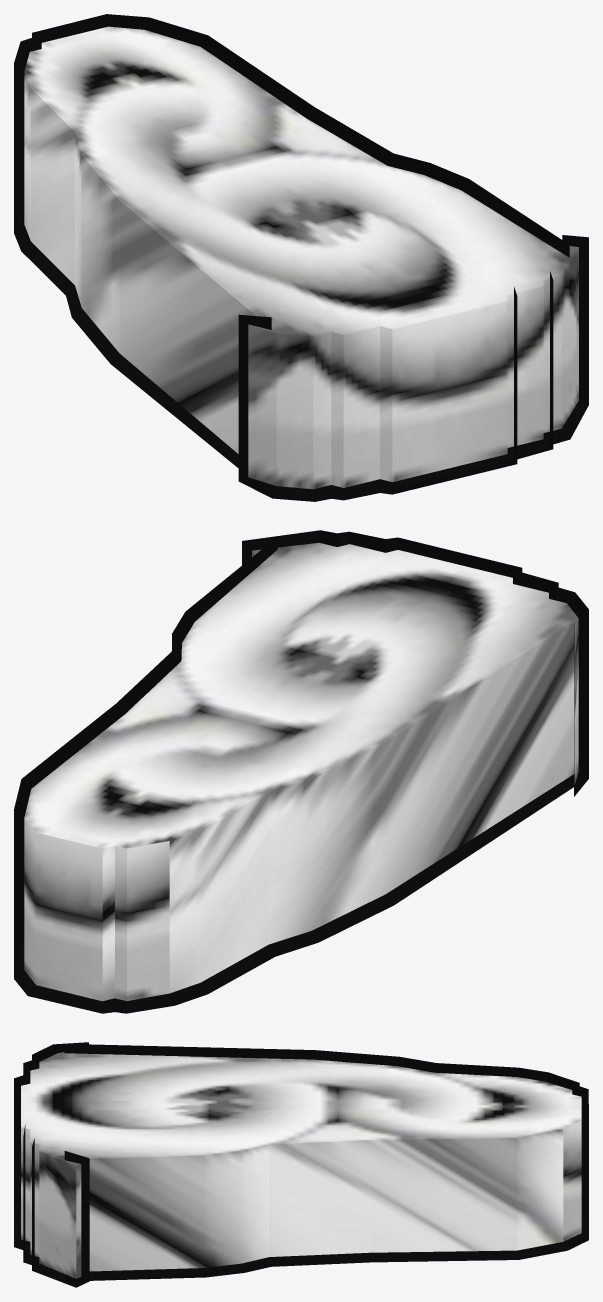
The model's file is Building_SculptureLarge_Things_Building_Art_SculptureLarge_SculptureLargeAbstractC.glb.
3 renders of one model, top to bottom at view 1: azimuth 30°, elevation 25°; view 2: azimuth 150°, elevation 25°; view 3: azimuth 270°, elevation 25°, orthographic. The views are drawn at different scales.
Visible parts, largest first — view 1: Body, Outline; view 2: Body, Outline; view 3: Body, Outline.
Part boxes in pixels (bbox=[...]): Body: bbox=[24, 26, 578, 489]; Outline: bbox=[14, 14, 588, 501]; Body: bbox=[24, 542, 578, 1001]; Outline: bbox=[14, 530, 588, 1013]; Body: bbox=[21, 1052, 581, 1278]; Outline: bbox=[14, 1042, 588, 1287].
Size of the model in its own units: 0.4405 by 0.2195 by 0.873.
2 materials, 1 textured.
